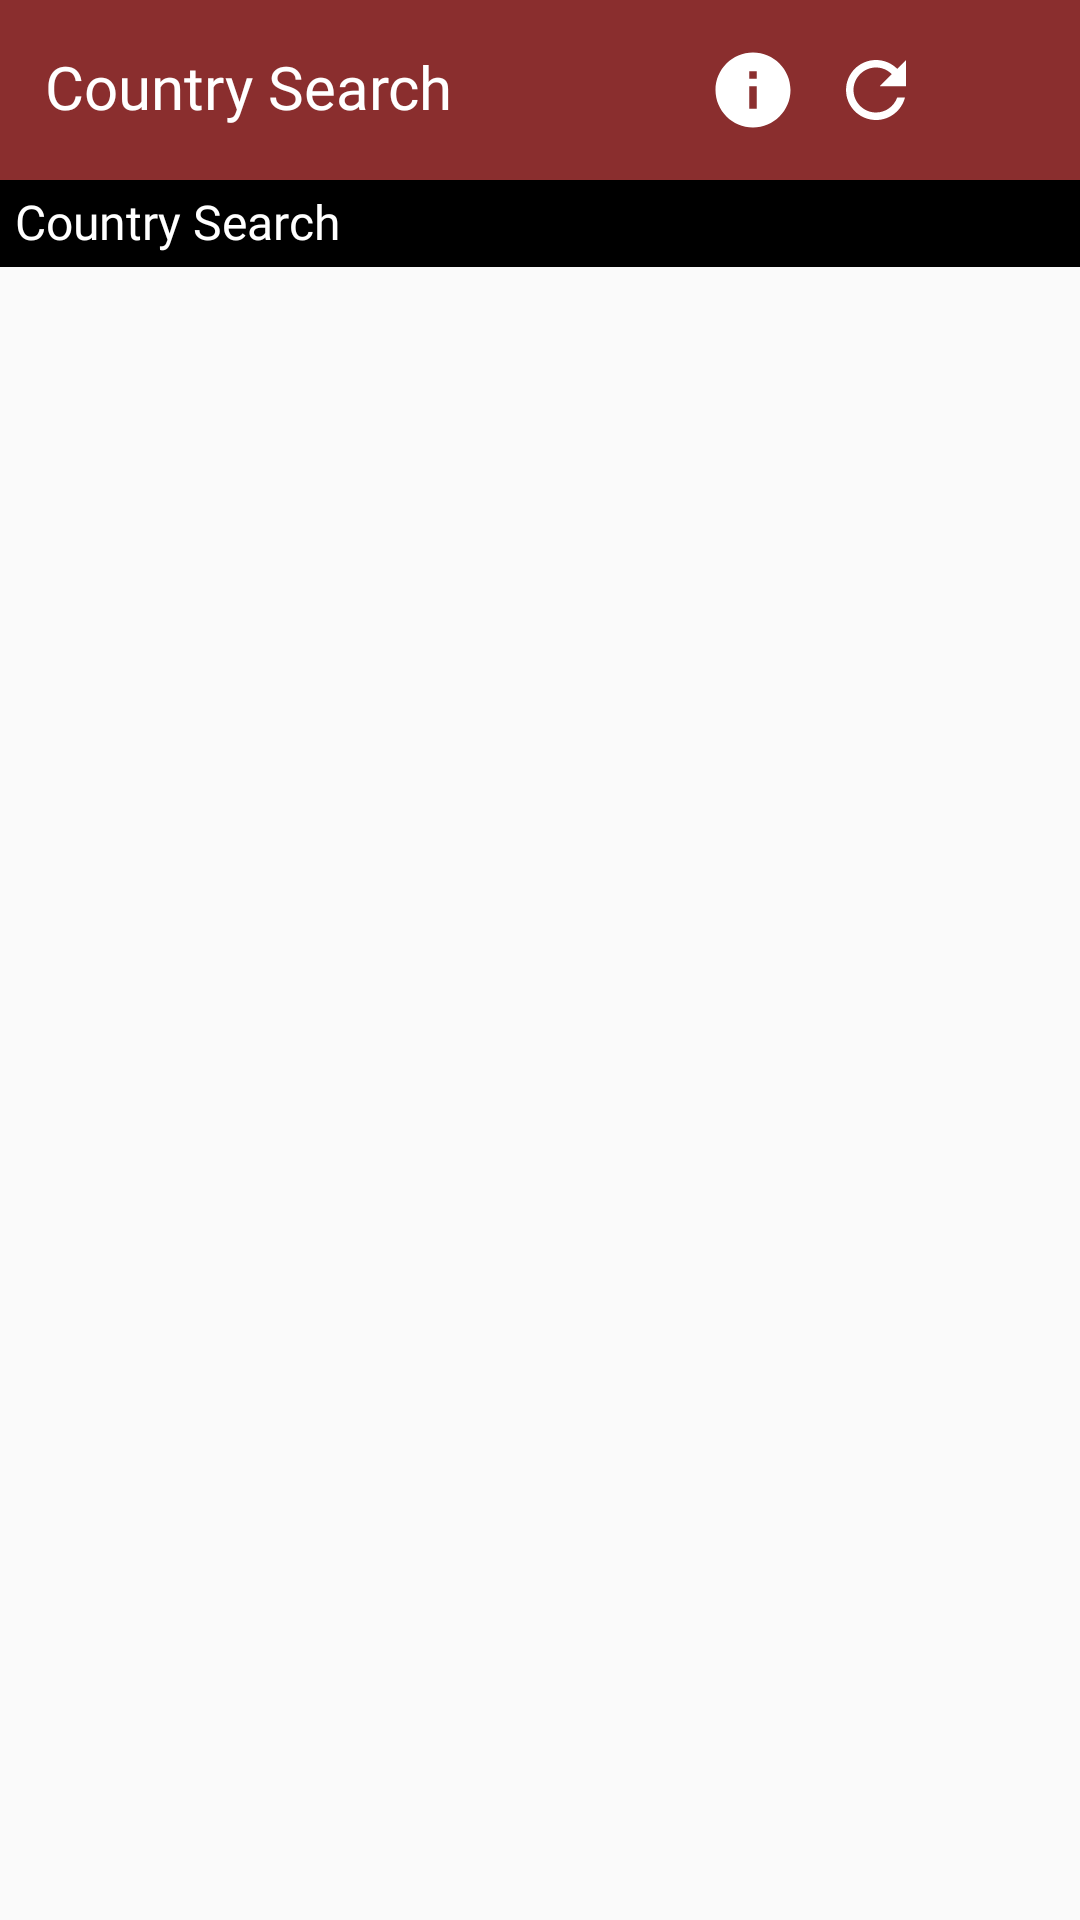

Where icons sit on this 1080 × 1920 app screen, as (x1, y1, x2, y2):
info: (715, 52, 791, 128)
Reload Image: (846, 60, 906, 120)
